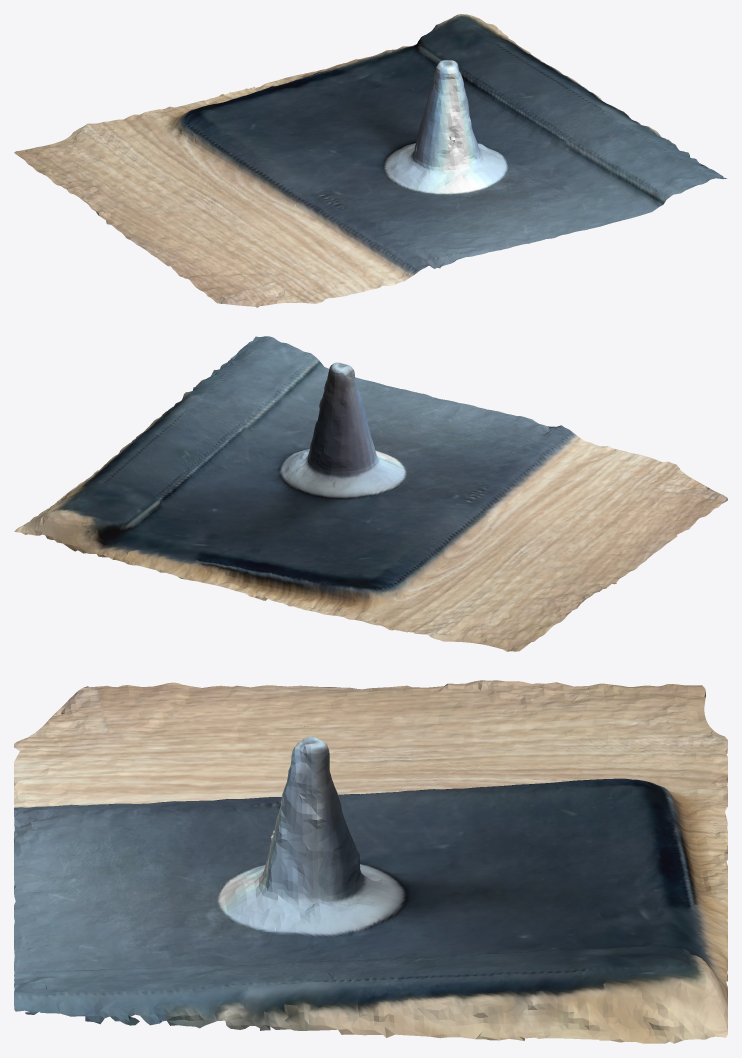
The model's file is podstavec.glb.
3 renders of one model, top to bottom at view 1: azimuth 30°, elevation 25°; view 2: azimuth 150°, elevation 25°; view 3: azimuth 270°, elevation 25°, orthographic. The views are drawn at different scales.
Size of the model in its own units: 0.3694 by 0.0851 by 0.3108.
1 material, 1 textured.
